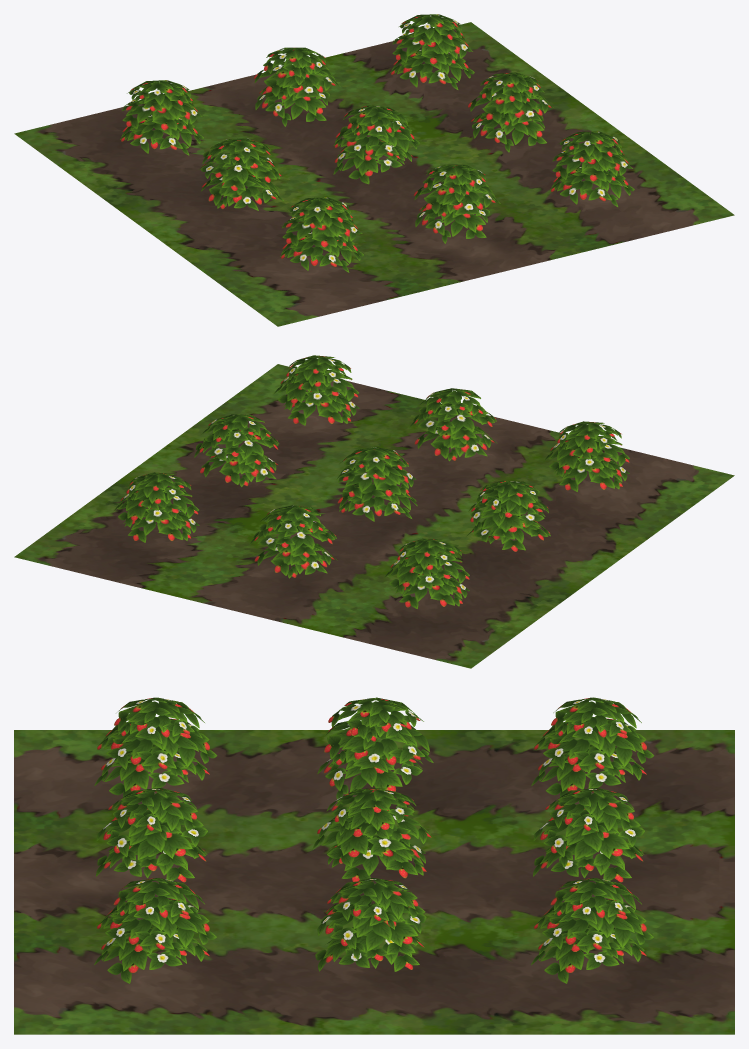
File: strawberryfields-painted.fbx
3 renders of one model, top to bottom at view 1: azimuth 30°, elevation 25°; view 2: azimuth 150°, elevation 25°; view 3: azimuth 270°, elevation 25°, orthographic. The views are drawn at different scales.
Visible parts, largest first — view 1: ground_strawberryfields, strawberry_bush_painted1_1_5, strawberry_bush_painted1_1_8, strawberry_bush_painted1_1_2, strawberry_bush_painted1_2, strawberry_bush_painted1_1_4, strawberry_bush_painted1_2_8, strawberry_bush_painted1_2_10, strawberry_bush_painted1_2_4, strawberry_bush_painted1_2_7, strawberry_bush_painted1_1_9, strawberry_bush_painted1_1_3 (+16 smaller); view 2: ground_strawberryfields, strawberry_bush_painted1_1_6, strawberry_bush_painted1_2_6, strawberry_bush_painted1_1_5, strawberry_bush_painted1_6, strawberry_bush_painted1_1_9, strawberry_bush_painted1_1_3, strawberry_bush_painted1_1_7, strawberry_bush_painted1_1, strawberry_bush_painted1_9, strawberry_bush_painted1_3, strawberry_bush_painted1 (+16 smaller); view 3: ground_strawberryfields, strawberry_bush_painted1_1, strawberry_bush_painted1_1_7, strawberry_bush_painted1_1_3, strawberry_bush_painted1_1_9, strawberry_bush_painted1_1_4, strawberry_bush_painted1_1_6, strawberry_bush_painted1_1_2, strawberry_bush_painted1_1_8, strawberry_bush_painted1_2_2, strawberry_bush_painted1_8, strawberry_bush_painted1_4 (+16 smaller).
Part boxes in pixels (x1,y1,x2,y2): ground_strawberryfields: (14, 22, 734, 326); strawberry_bush_painted1_1_5: (333, 120, 419, 160); strawberry_bush_painted1_1_8: (253, 61, 340, 99); strawberry_bush_painted1_1_2: (413, 179, 500, 216); strawberry_bush_painted1_2: (550, 165, 634, 206); strawberry_bush_painted1_1_4: (468, 87, 553, 125); strawberry_bush_painted1_2_8: (390, 48, 474, 89); strawberry_bush_painted1_2_10: (120, 114, 203, 155); strawberry_bush_painted1_2_4: (280, 231, 363, 272); strawberry_bush_painted1_2_7: (201, 173, 283, 210); strawberry_bush_painted1_1_9: (121, 93, 202, 130); strawberry_bush_painted1_1_3: (281, 210, 362, 248); ground_strawberryfields: (14, 364, 734, 668); strawberry_bush_painted1_1_6: (468, 494, 548, 539); strawberry_bush_painted1_2_6: (337, 482, 417, 521); strawberry_bush_painted1_1_5: (336, 461, 416, 498); strawberry_bush_painted1_6: (476, 480, 539, 518); strawberry_bush_painted1_1_9: (384, 553, 469, 593); strawberry_bush_painted1_1_3: (544, 436, 629, 476); strawberry_bush_painted1_1_7: (114, 487, 198, 527); strawberry_bush_painted1_1: (274, 370, 358, 410); strawberry_bush_painted1_9: (397, 538, 461, 576); strawberry_bush_painted1_3: (557, 421, 621, 459); strawberry_bush_painted1: (286, 355, 351, 393); ground_strawberryfields: (14, 730, 734, 1034); strawberry_bush_painted1_1: (97, 896, 216, 958); strawberry_bush_painted1_1_7: (534, 896, 653, 958); strawberry_bush_painted1_1_3: (97, 716, 217, 777); strawberry_bush_painted1_1_9: (534, 716, 654, 777); strawberry_bush_painted1_1_4: (317, 899, 426, 959); strawberry_bush_painted1_1_6: (323, 721, 433, 772); strawberry_bush_painted1_1_2: (96, 808, 207, 867); strawberry_bush_painted1_1_8: (533, 808, 644, 867); strawberry_bush_painted1_2_2: (108, 788, 203, 840); strawberry_bush_painted1_8: (545, 788, 640, 840); strawberry_bush_painted1_4: (327, 878, 425, 929).
Size of the model in its own units: 500 by 70.31 by 500.
Materials: 2 (2 with a texture image).
